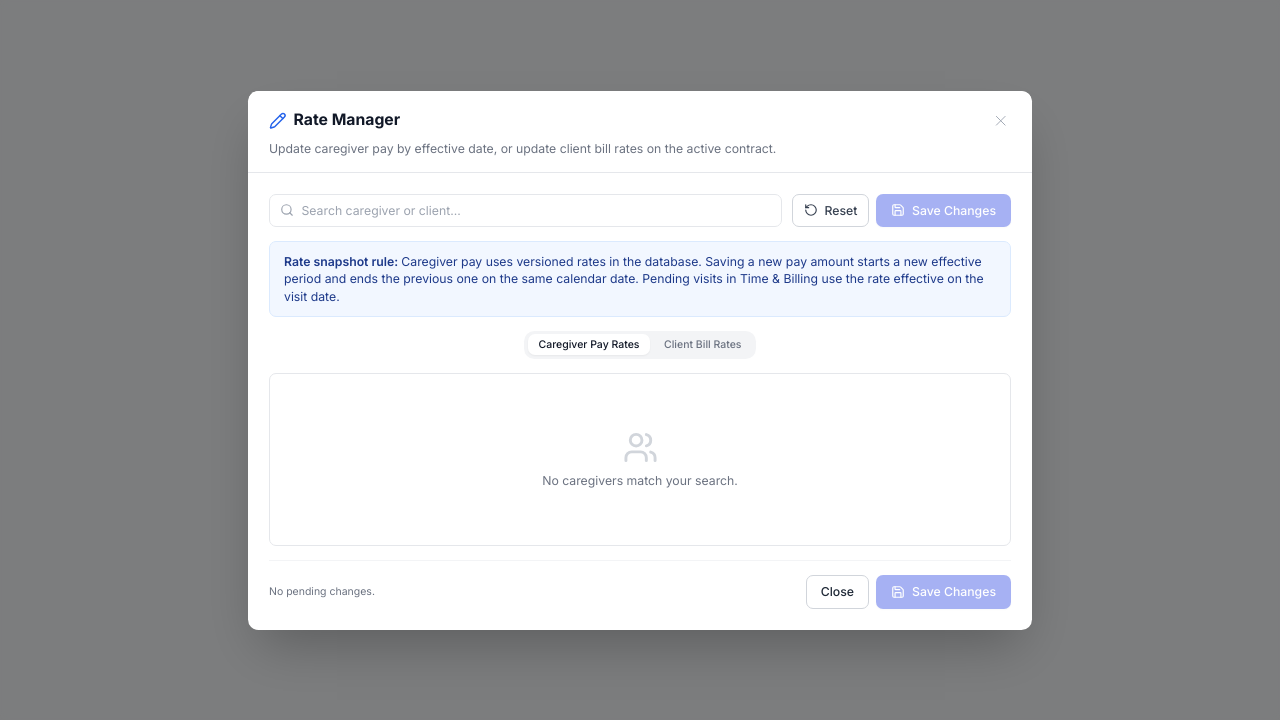
Test: rate manager sends changed bill rates in one validated batch and rejects blank amounts
Click the tab "Client Bill Rates" at (703, 344), box [654,334,752,355]
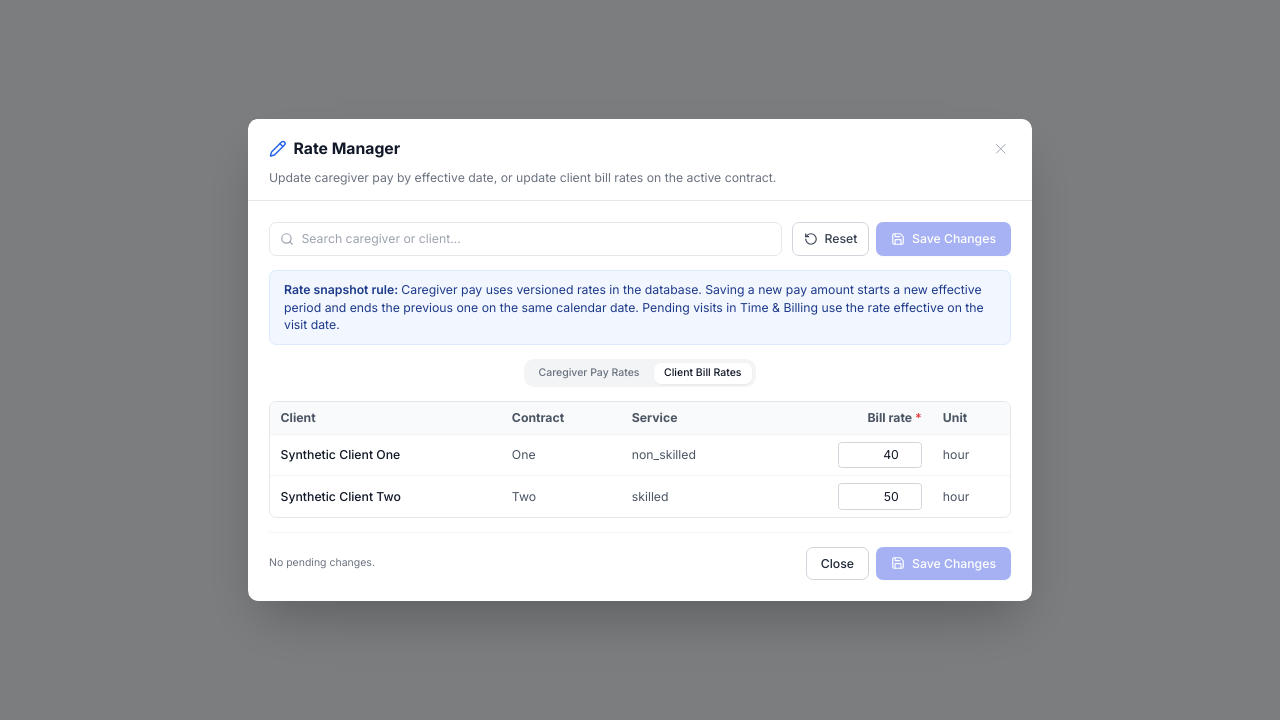
Replace the text in the number field named "Bill rate for Synthetic Client One" with "41.25" at (880, 455), box [838,442,922,468]
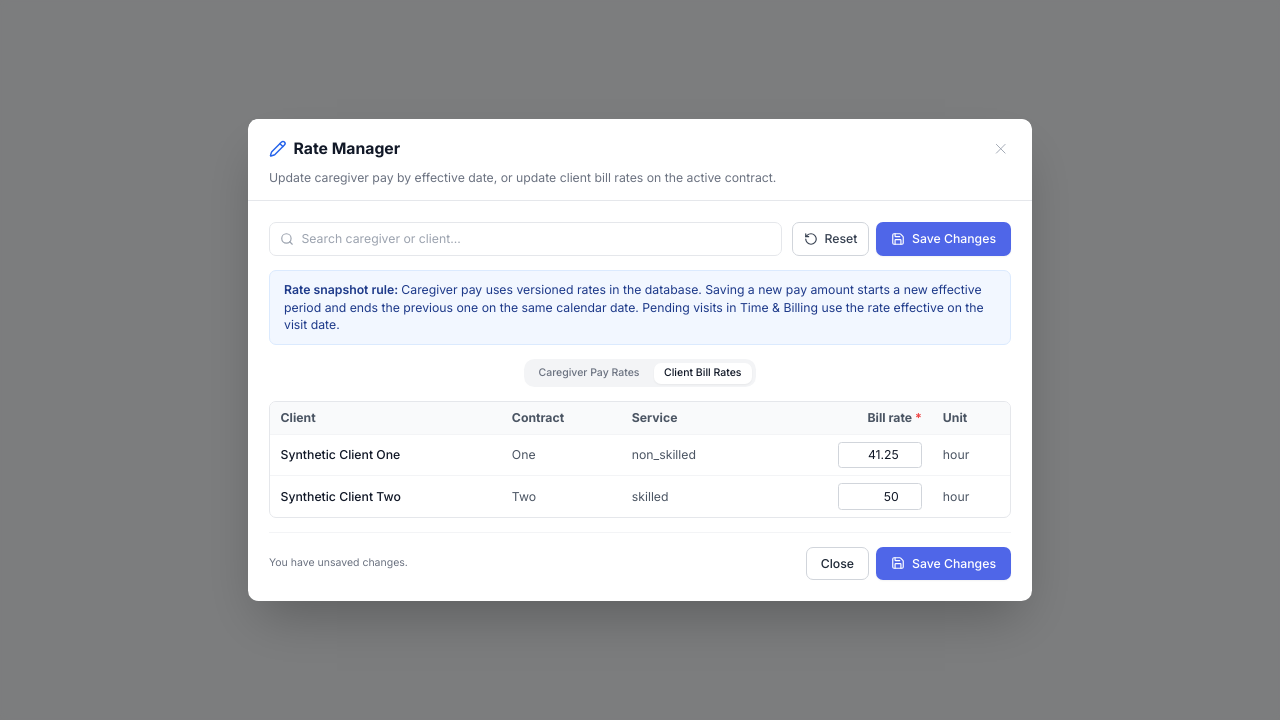
Replace the text in the number field named "Bill rate for Synthetic Client Two" with "51.75" at (880, 496), box [838,483,922,510]
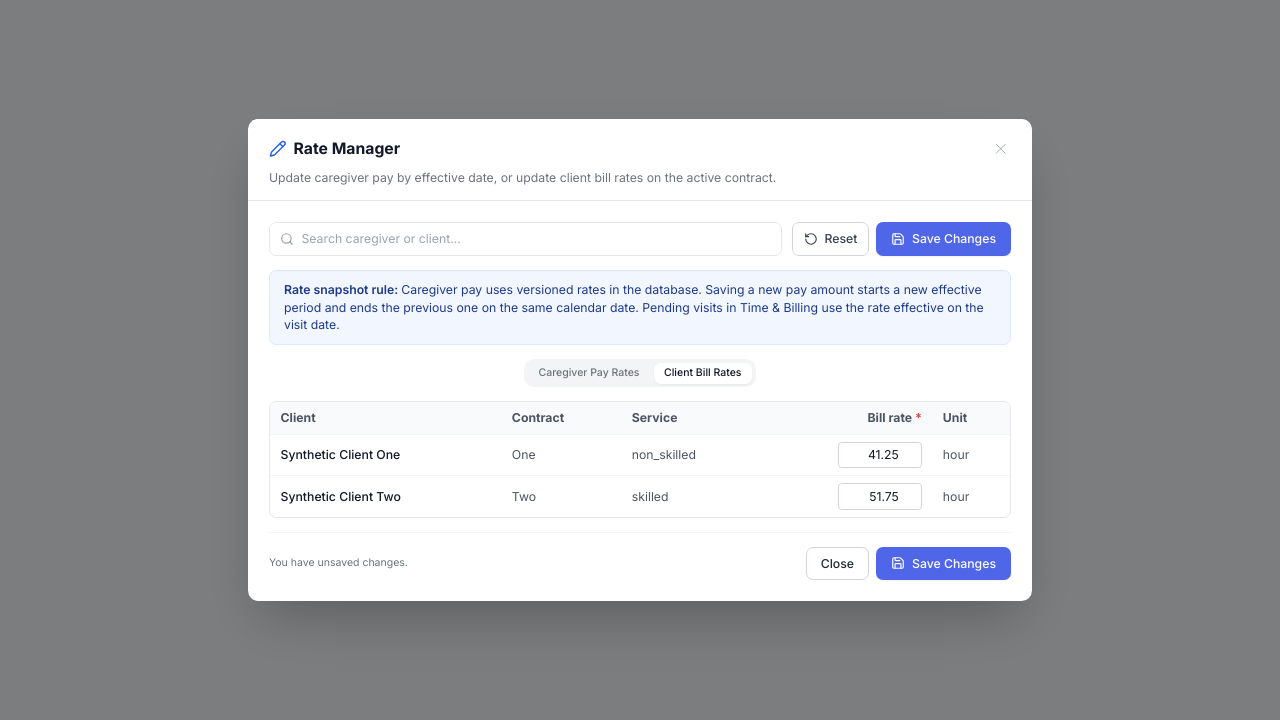
Click the 1st button "Save Changes" at (944, 239), box [876,222,1011,256]
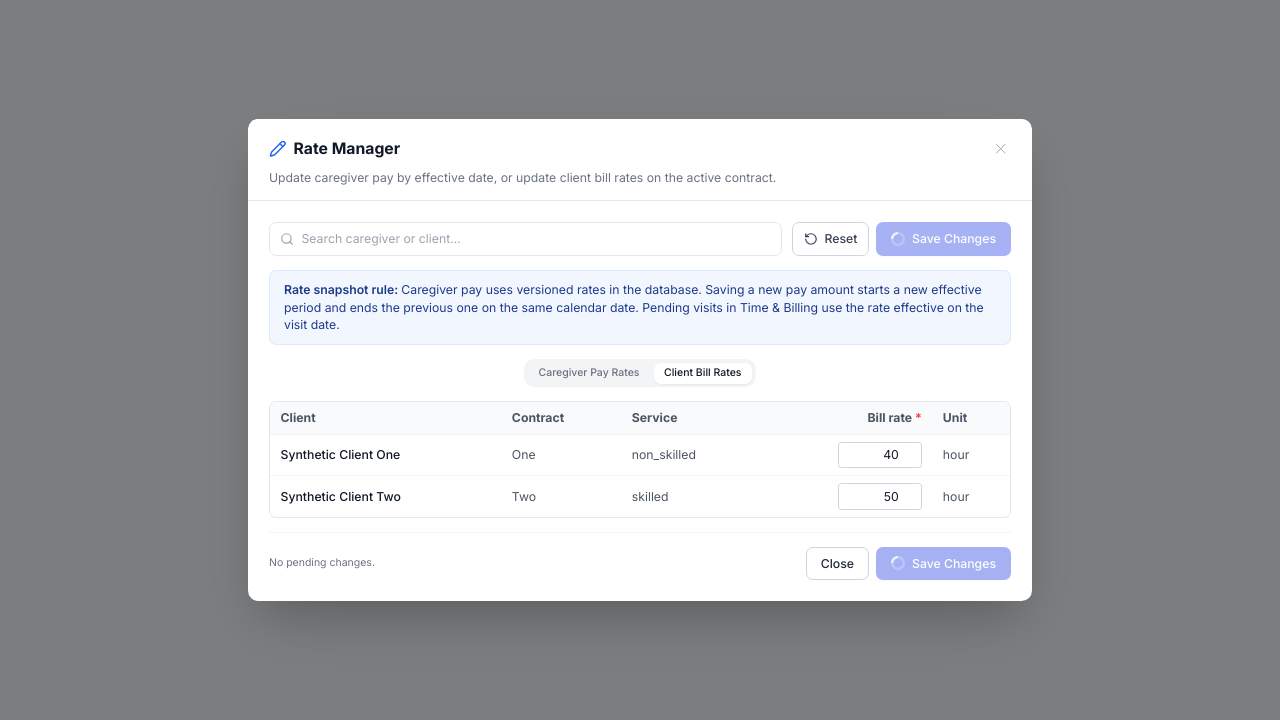
Clear the number field named "Bill rate for Synthetic Client One" at (880, 455), box [838,442,922,468]
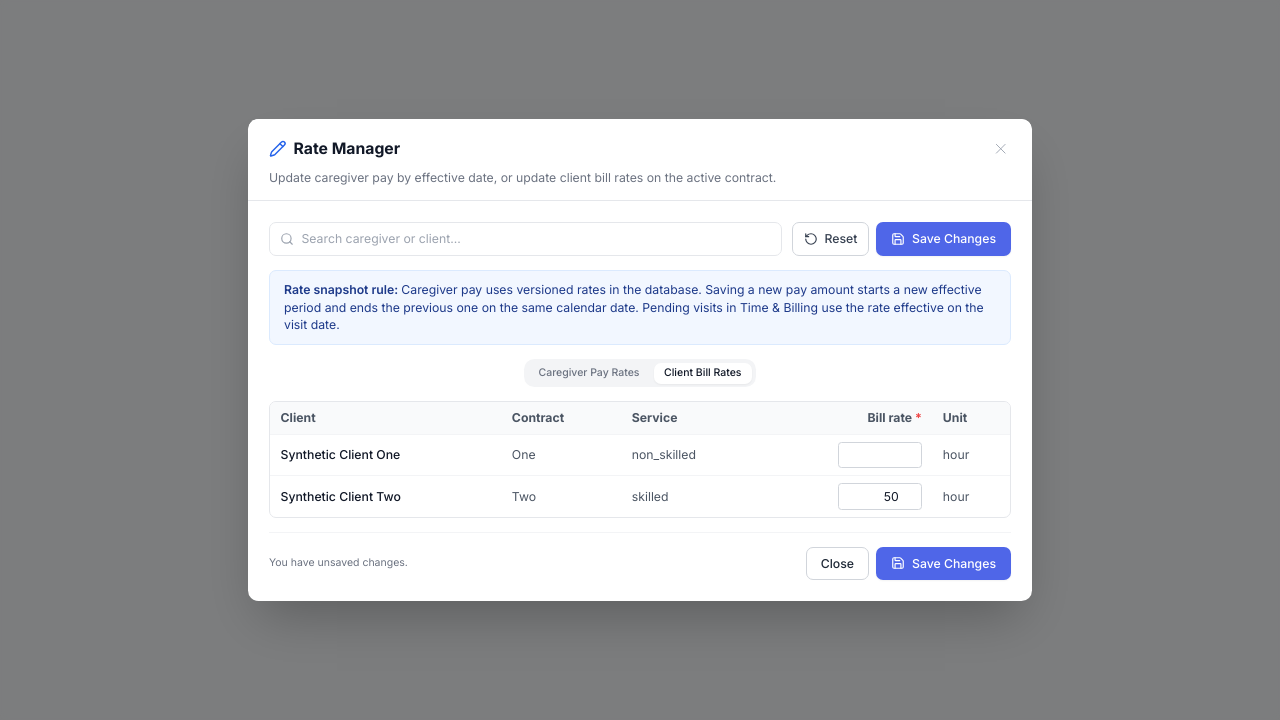
Click the 1st button "Save Changes" at (944, 239), box [876,222,1011,256]
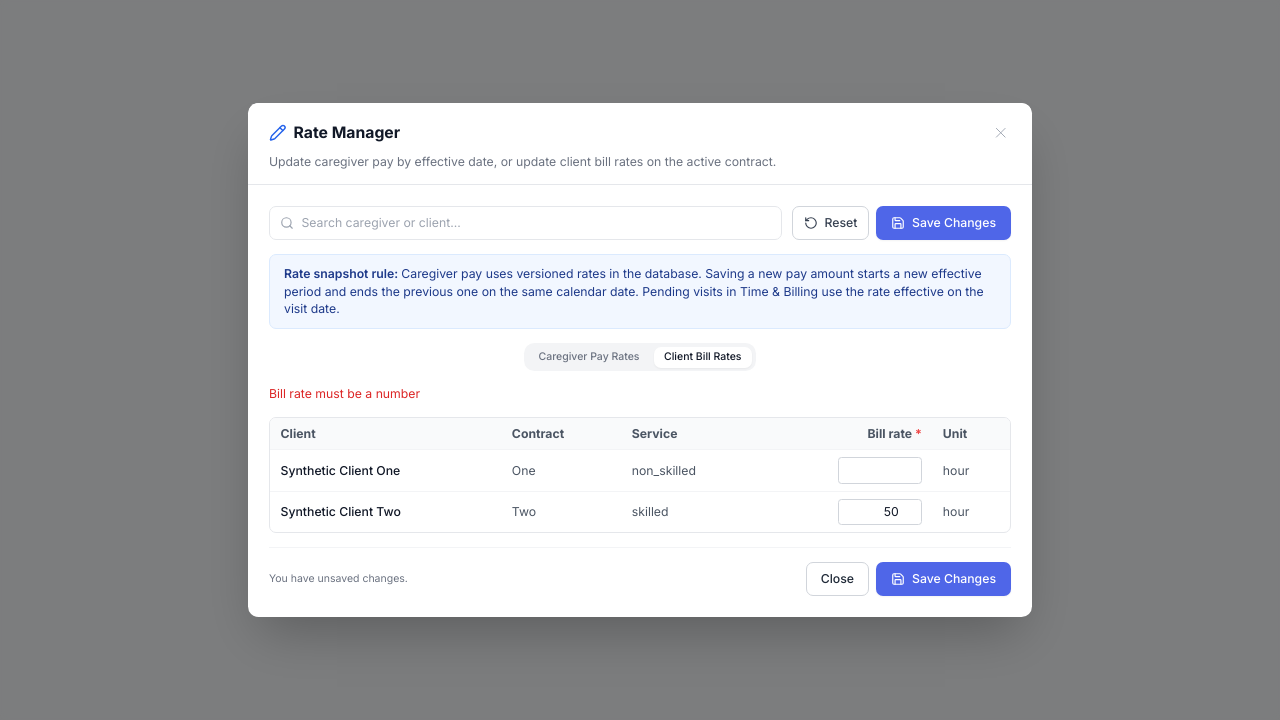
Expected: the text "Bill rate must be a number" is shown, [269,386,420,401]
